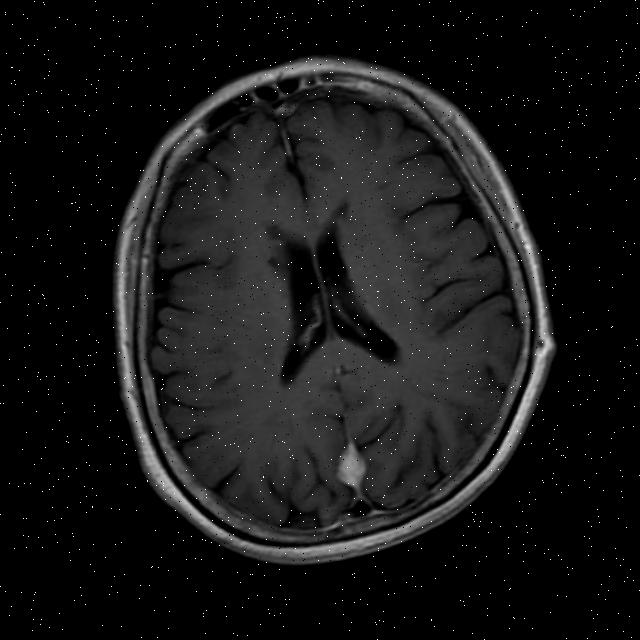Meningioma: (330, 434, 373, 510)
